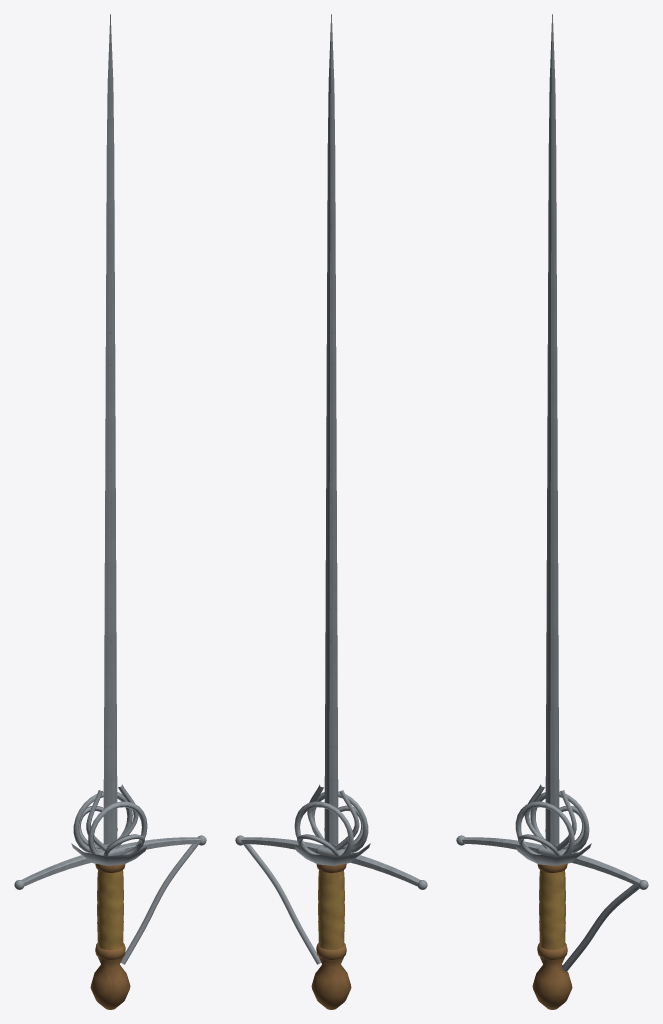
The model's file is rapier.lod1.glb.
3 views of the same model, side by side, from view 1: azimuth 30°, elevation 25°; view 2: azimuth 150°, elevation 25°; view 3: azimuth 330°, elevation 25° (orthographic).
Visible parts, largest first — view 1: steel / forged blade steel, brass / polished brass furniture, bronze / cast bronze with patina; view 2: steel / forged blade steel, brass / polished brass furniture, bronze / cast bronze with patina; view 3: steel / forged blade steel, brass / polished brass furniture, bronze / cast bronze with patina.
Boxes of the visible parts, bbox=[...] form: steel / forged blade steel: bbox=[14, 14, 206, 964]; brass / polished brass furniture: bbox=[97, 870, 123, 950]; bronze / cast bronze with patina: bbox=[90, 863, 130, 1009]; steel / forged blade steel: bbox=[235, 14, 427, 964]; brass / polished brass furniture: bbox=[318, 870, 344, 950]; bronze / cast bronze with patina: bbox=[311, 863, 351, 1009]; steel / forged blade steel: bbox=[456, 14, 648, 971]; brass / polished brass furniture: bbox=[539, 870, 565, 950]; bronze / cast bronze with patina: bbox=[532, 863, 572, 1009].
Size of the model in its own units: 0.2412 by 1.2 by 0.0907.
3 materials, 3 textured.
